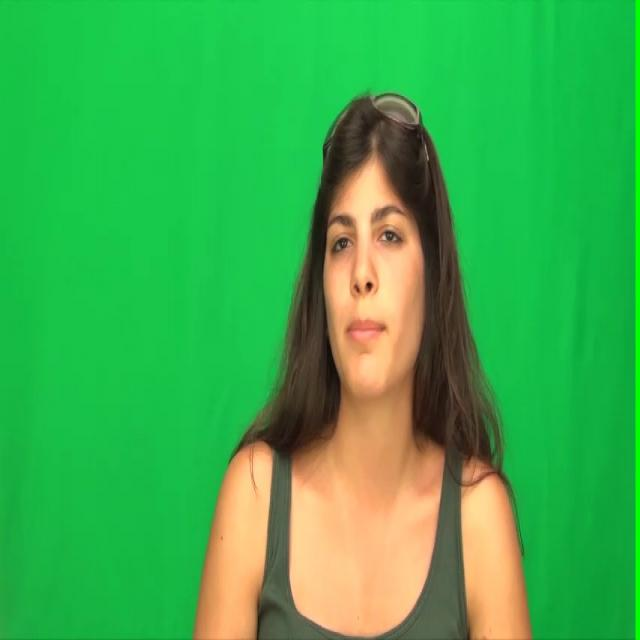Boredom: (322, 154, 420, 382)
